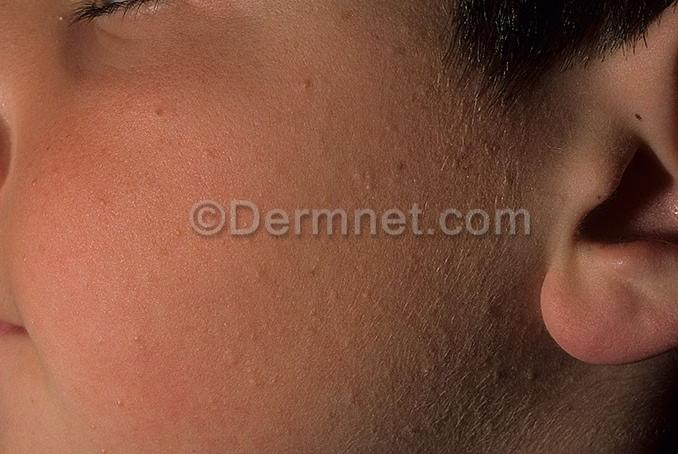edema 1: (112, 117, 542, 446)
